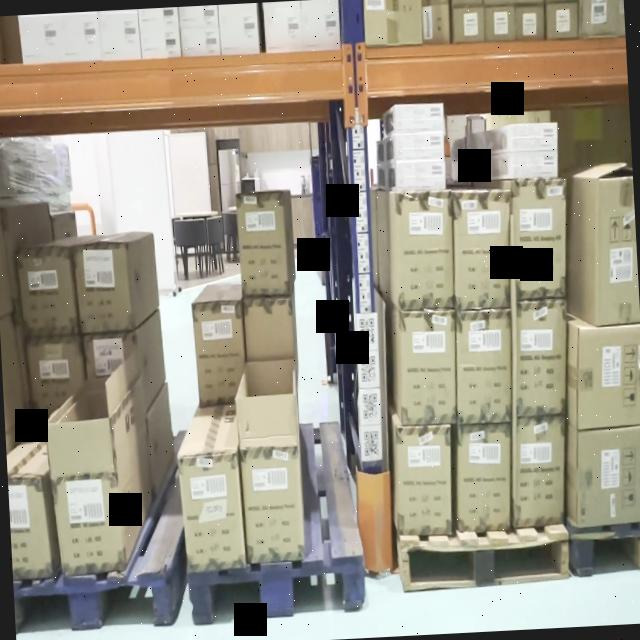box: (241, 442, 304, 566), (180, 453, 243, 573), (54, 475, 123, 568), (396, 191, 451, 306), (396, 425, 454, 533), (401, 315, 456, 420), (459, 427, 515, 530), (461, 316, 513, 423), (458, 198, 511, 301), (73, 242, 129, 336), (517, 304, 564, 411), (20, 253, 80, 333), (520, 419, 563, 521), (516, 203, 565, 291), (240, 204, 290, 290)
